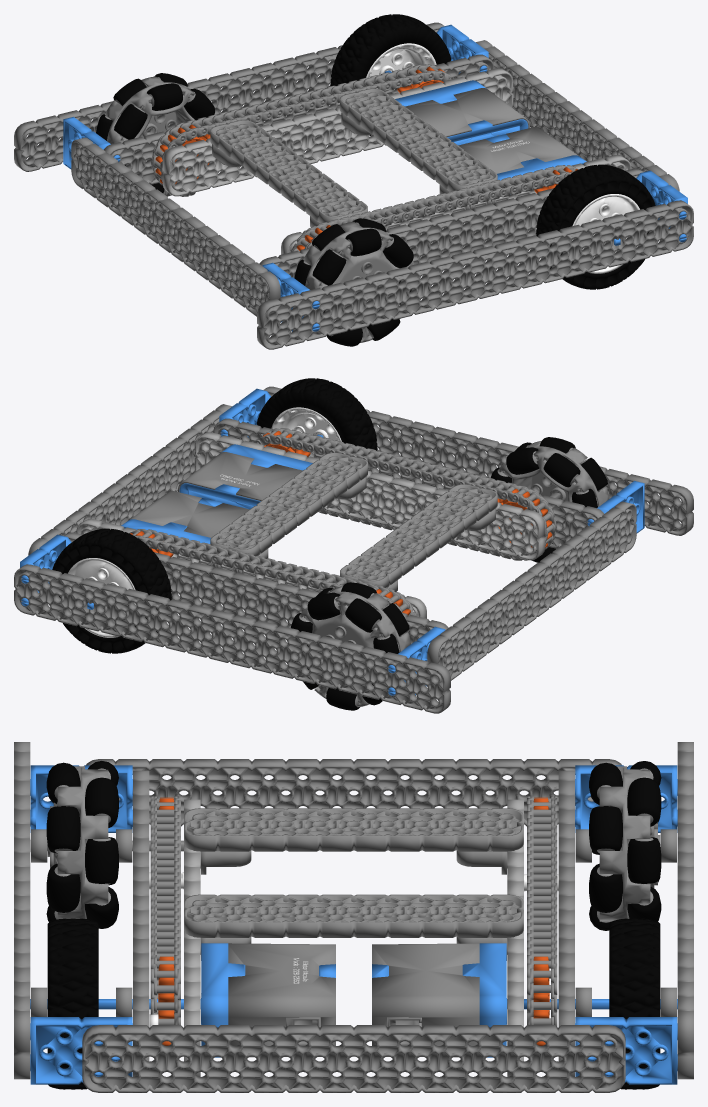
File: Drive train V1.glb
3 renders of one model, top to bottom at view 1: azimuth 30°, elevation 25°; view 2: azimuth 150°, elevation 25°; view 3: azimuth 270°, elevation 25°, orthographic. The views are drawn at different scales.
Visible parts, largest first — view 1: 00039_228-2500-030.dat, 00220_228-2500-028.dat, 00164_228-2500-030.dat, 00155_228-2500-028.dat, 00038_228-2500-029.dat, 00226_228-2500-025.dat, 00225_228-2500-025.dat, 00219_228-2500-028.dat, 00003_228-2500-209.dat, 00140_228-2500-209.dat, 00150_228-2560c.dat, 00014_228-2560c.dat (+19 smaller); view 2: 00164_228-2500-030.dat, 00220_228-2500-028.dat, 00039_228-2500-030.dat, 00019_228-2500-028.dat, 00163_228-2500-029.dat, 00225_228-2500-025.dat, 00226_228-2500-025.dat, 00219_228-2500-028.dat, 00140_228-2500-209.dat, 00003_228-2500-209.dat, 00014_228-2560c.dat, 00150_228-2560c.dat (+18 smaller); view 3: 00219_228-2500-028.dat, 00220_228-2500-028.dat, 00225_228-2500-025.dat, 00226_228-2500-025.dat, 00014_228-2560c.dat, 00150_228-2560c.dat, 00039_228-2500-030.dat, 00164_228-2500-030.dat, 00003_228-2500-209.dat, 00140_228-2500-209.dat, 00038_228-2500-029.dat, 00163_228-2500-029.dat (+28 smaller).
Part boxes in pixels (bbox=[...]): 00039_228-2500-030.dat: bbox=[257, 200, 693, 349]; 00220_228-2500-028.dat: bbox=[71, 137, 280, 316]; 00164_228-2500-030.dat: bbox=[14, 22, 444, 171]; 00155_228-2500-028.dat: bbox=[162, 68, 513, 196]; 00038_228-2500-029.dat: bbox=[259, 168, 643, 277]; 00226_228-2500-025.dat: bbox=[210, 120, 367, 223]; 00225_228-2500-025.dat: bbox=[340, 88, 497, 191]; 00219_228-2500-028.dat: bbox=[476, 40, 679, 191]; 00003_228-2500-209.dat: bbox=[536, 164, 655, 289]; 00140_228-2500-209.dat: bbox=[330, 14, 451, 135]; 00150_228-2560c.dat: bbox=[405, 88, 529, 136]; 00014_228-2560c.dat: bbox=[458, 127, 577, 173]; 00164_228-2500-030.dat: bbox=[14, 564, 450, 713]; 00220_228-2500-028.dat: bbox=[427, 501, 636, 680]; 00039_228-2500-030.dat: bbox=[263, 386, 693, 535]; 00019_228-2500-028.dat: bbox=[194, 432, 545, 560]; 00163_228-2500-029.dat: bbox=[64, 532, 448, 643]; 00225_228-2500-025.dat: bbox=[210, 452, 367, 556]; 00226_228-2500-025.dat: bbox=[340, 484, 497, 587]; 00219_228-2500-028.dat: bbox=[28, 404, 231, 555]; 00140_228-2500-209.dat: bbox=[52, 528, 171, 653]; 00003_228-2500-209.dat: bbox=[256, 378, 377, 450]; 00014_228-2560c.dat: bbox=[178, 452, 302, 500]; 00150_228-2560c.dat: bbox=[130, 491, 249, 537]; 00219_228-2500-028.dat: bbox=[82, 1025, 625, 1092]; 00220_228-2500-028.dat: bbox=[86, 759, 621, 826]; 00225_228-2500-025.dat: bbox=[184, 894, 523, 937]; 00226_228-2500-025.dat: bbox=[184, 808, 523, 851]; 00014_228-2560c.dat: bbox=[228, 943, 335, 1057]; 00150_228-2560c.dat: bbox=[372, 943, 479, 1057]; 00039_228-2500-030.dat: bbox=[14, 742, 30, 1079]; 00164_228-2500-030.dat: bbox=[677, 742, 693, 1079]; 00003_228-2500-209.dat: bbox=[47, 918, 98, 1089]; 00140_228-2500-209.dat: bbox=[609, 918, 660, 1089]; 00038_228-2500-029.dat: bbox=[133, 770, 149, 1076]; 00163_228-2500-029.dat: bbox=[558, 770, 574, 1076].
Size of the model in its own units: 0.6618 by 0.162 by 0.6458.
